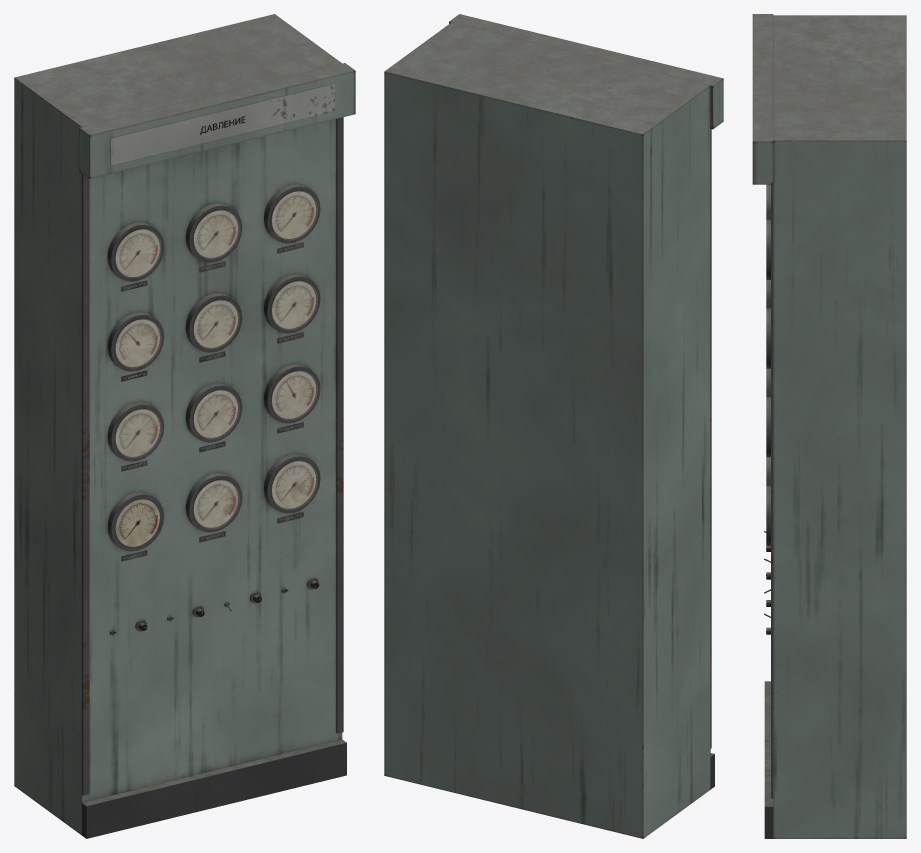
The model's file is SM_WallPanel_Gauges.fbx.
3 views of the same model, side by side, from view 1: azimuth 30°, elevation 25°; view 2: azimuth 150°, elevation 25°; view 3: azimuth 270°, elevation 25° (orthographic).
Parts seen in each view (by area): view 1: SM_WallPanel_Gauges; view 2: SM_WallPanel_Gauges; view 3: SM_WallPanel_Gauges.
Part boxes in pixels (box(x1,y1,x2,y2)): SM_WallPanel_Gauges: box(14, 14, 355, 838); SM_WallPanel_Gauges: box(384, 14, 723, 838); SM_WallPanel_Gauges: box(752, 14, 906, 838).
Size of the model in its own units: 1.02 by 2.6 by 0.5216.
2 materials, 1 textured.
